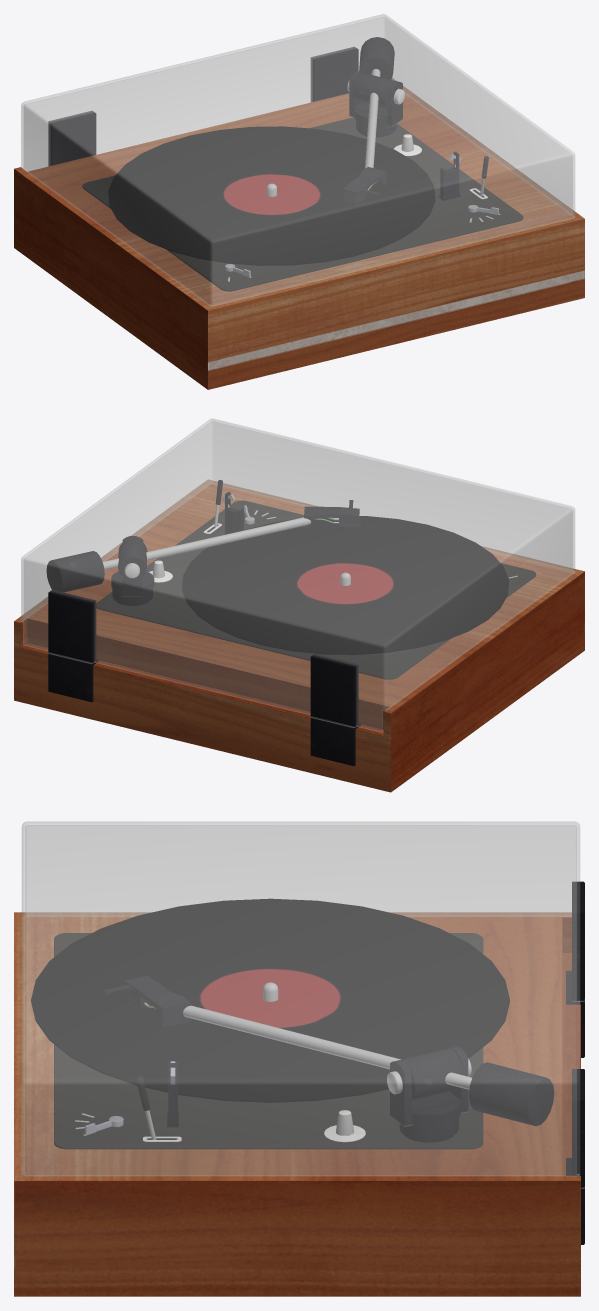
Rendered from recordplayer_draco.glb.
The picture shows the model from 3 angles, top to bottom: view 1: azimuth 30°, elevation 25°; view 2: azimuth 150°, elevation 25°; view 3: azimuth 270°, elevation 25°; orthographic projection. The views are drawn at different scales.
Visible parts, largest first — view 1: Cube.005, Cube, Cylinder, Cube.002, Cube.006, Cylinder.010, Cylinder.002, Cube.001, Cube.003; view 2: Cube.005, Cube, Cylinder, Cube.006, Cube.002, Cylinder.002, Cylinder.010, Cube.001, Cube.003; view 3: Cube.005, Cube, Cylinder, Cube.002, Cylinder.002, Cylinder.010, Cube.006, Cube.001, Cylinder.007, Cube.003.
Boxes of the visible parts, left/top/right/bottom form: Cube.005: left=21, top=14, right=574, bottom=305; Cube: left=14, top=78, right=584, bottom=389; Cylinder: left=108, top=126, right=435, bottom=265; Cube.002: left=82, top=117, right=523, bottom=291; Cube.006: left=48, top=47, right=358, bottom=165; Cylinder.010: left=347, top=71, right=404, bottom=137; Cylinder.002: left=359, top=37, right=394, bottom=168; Cube.001: left=342, top=167, right=386, bottom=204; Cube.003: left=439, top=151, right=460, bottom=200; Cube.005: left=21, top=418, right=574, bottom=732; Cube: left=14, top=479, right=584, bottom=792; Cylinder: left=182, top=516, right=509, bottom=654; Cube.006: left=48, top=590, right=360, bottom=766; Cube.002: left=96, top=500, right=536, bottom=679; Cylinder.002: left=46, top=517, right=310, bottom=592; Cylinder.010: left=111, top=536, right=154, bottom=605; Cube.001: left=304, top=500, right=360, bottom=528; Cube.003: left=224, top=492, right=243, bottom=534; Cube.005: left=22, top=821, right=579, bottom=1175; Cube: left=14, top=912, right=580, bottom=1296; Cylinder: left=31, top=898, right=509, bottom=1102; Cube.002: left=54, top=933, right=483, bottom=1149; Cylinder.002: left=183, top=1005, right=554, bottom=1125; Cylinder.010: left=387, top=1046, right=471, bottom=1142; Cube.006: left=566, top=881, right=584, bottom=1244; Cube.001: left=103, top=976, right=190, bottom=1027; Cylinder.007: left=324, top=1110, right=365, bottom=1142; Cube.003: left=167, top=1063, right=178, bottom=1127.
Bounding box in the file's own units: 223 × 82 × 200.
2 materials, 1 textured.
